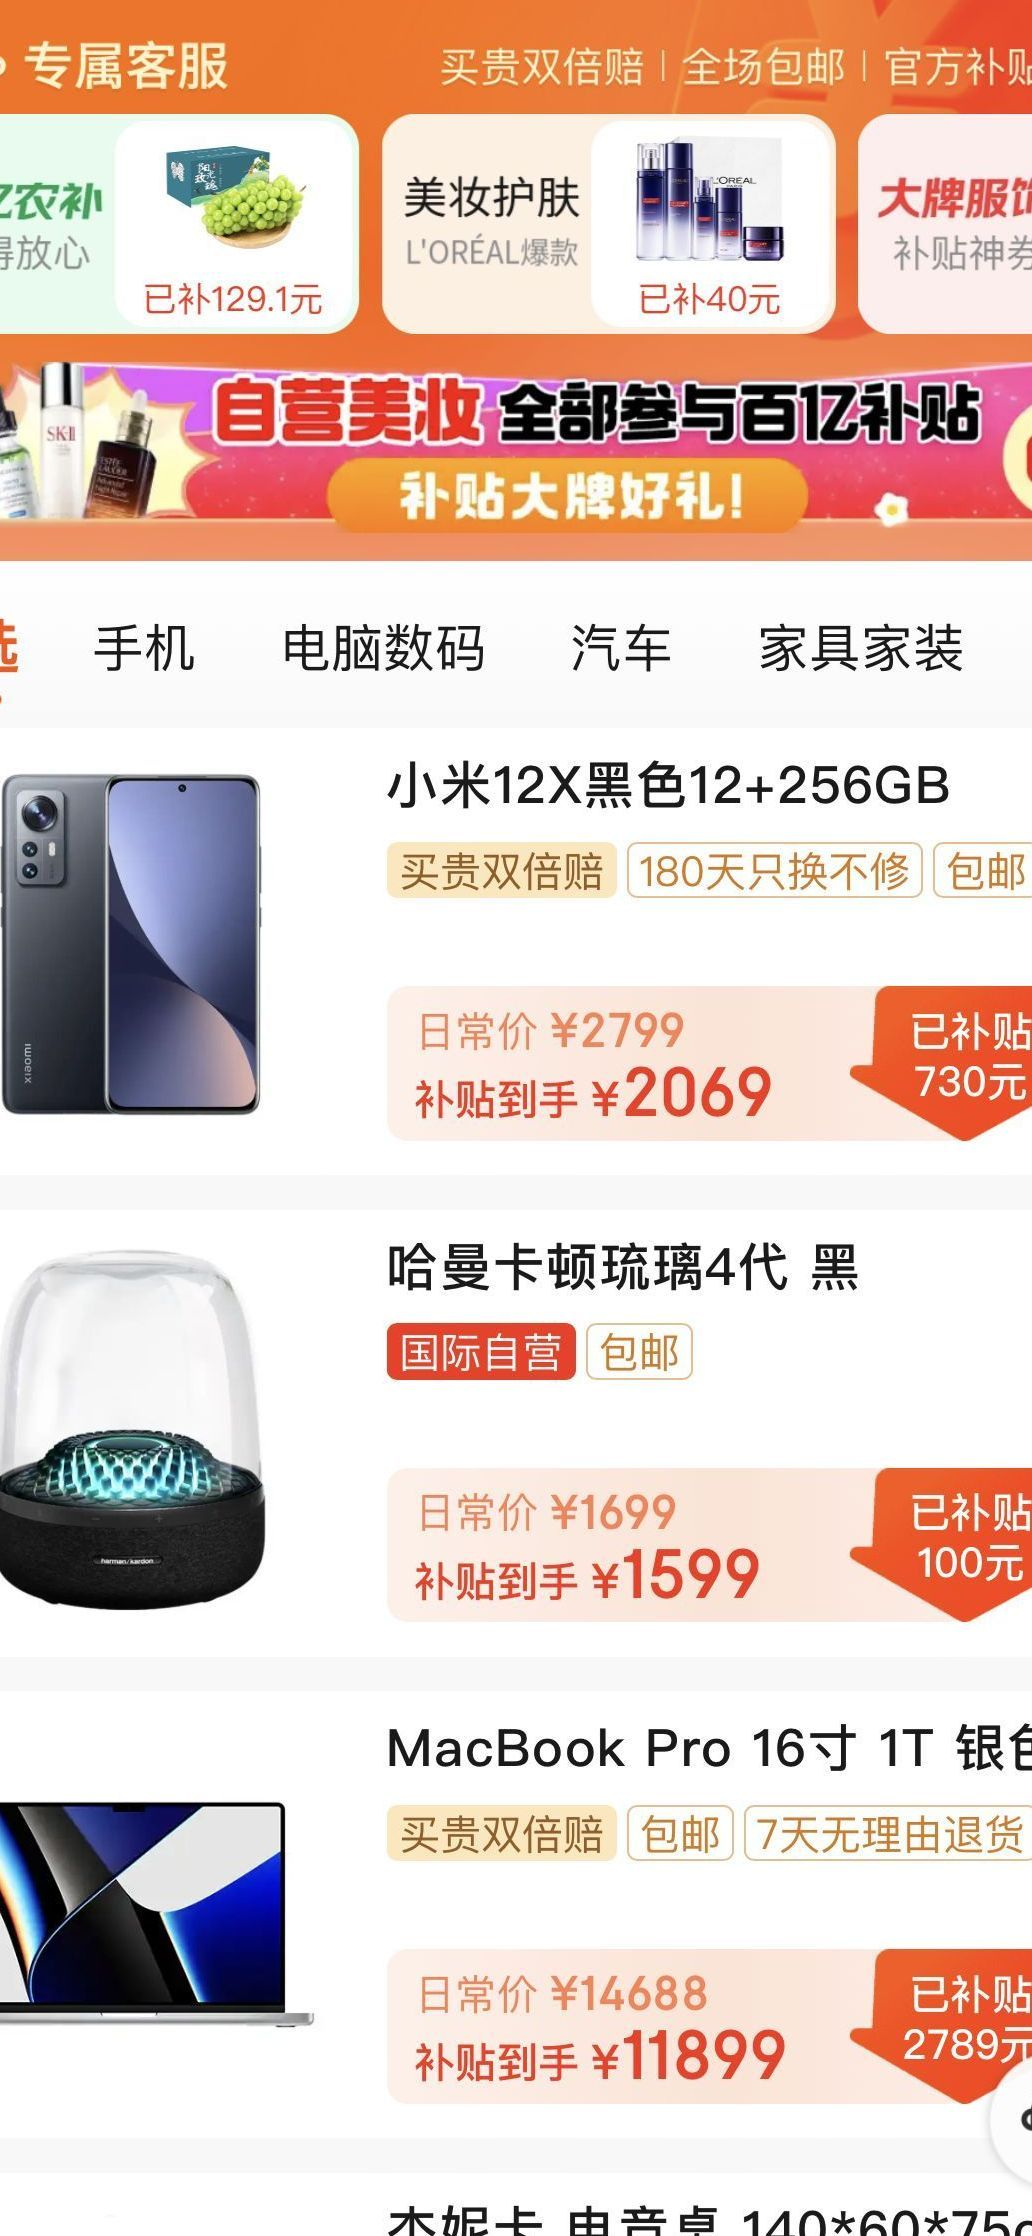item: (1, 723, 1032, 1185), (6, 1201, 1031, 1658), (6, 1673, 1032, 2128)
seckill: (6, 97, 1031, 548)
